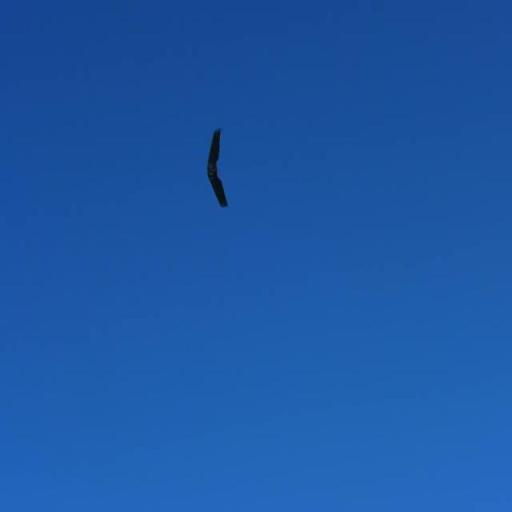uav: (205, 120, 233, 217)
